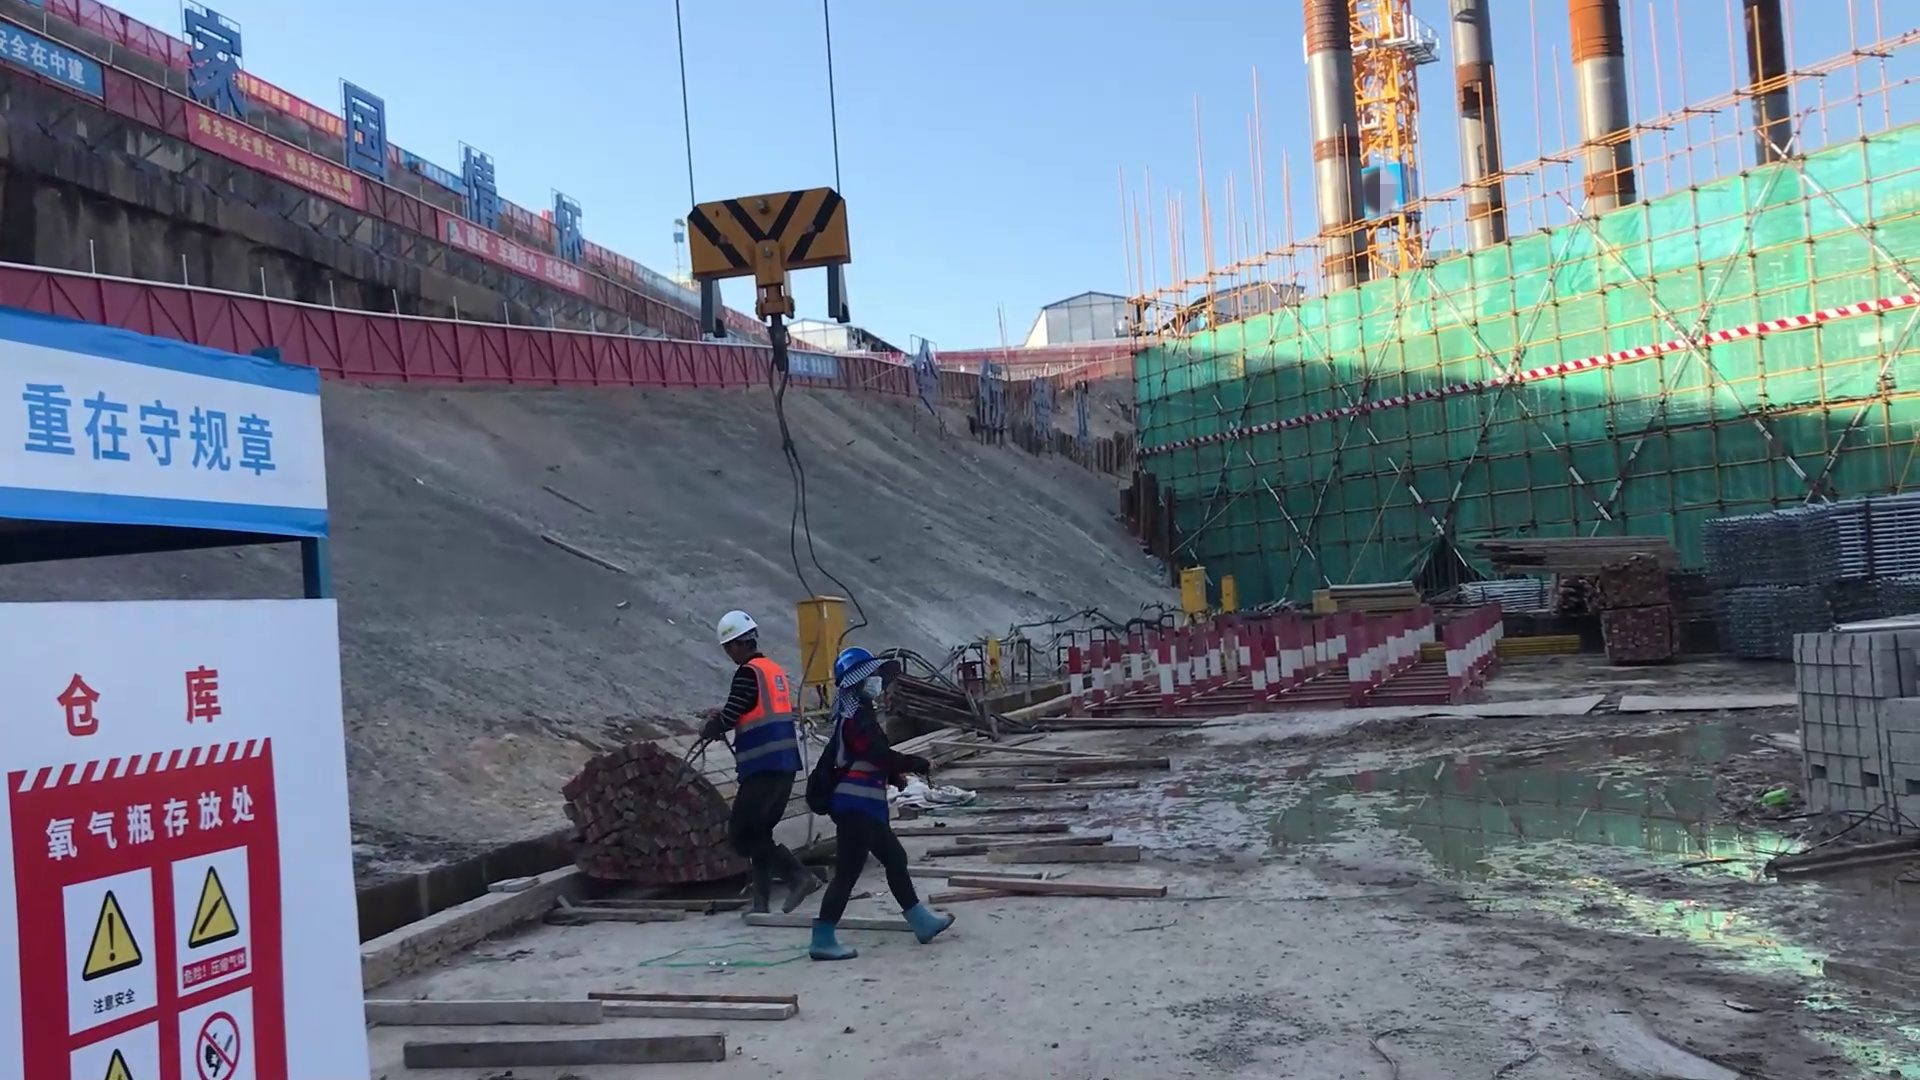brick: (1774, 611, 1920, 857)
ebox: (1176, 565, 1212, 613), (1218, 572, 1234, 617)
fence: (312, 302, 593, 386), (592, 338, 743, 390)
helmet: (819, 632, 899, 692), (710, 608, 765, 656)
hook: (684, 170, 862, 345)
person: (802, 627, 956, 964), (704, 602, 813, 920)
scaffold: (1688, 508, 1920, 593)
slogan: (19, 756, 349, 1080), (180, 102, 448, 287), (21, 378, 282, 491), (1, 41, 117, 120)
vest: (728, 658, 787, 724)
wood: (551, 731, 717, 897), (1471, 524, 1669, 583)
